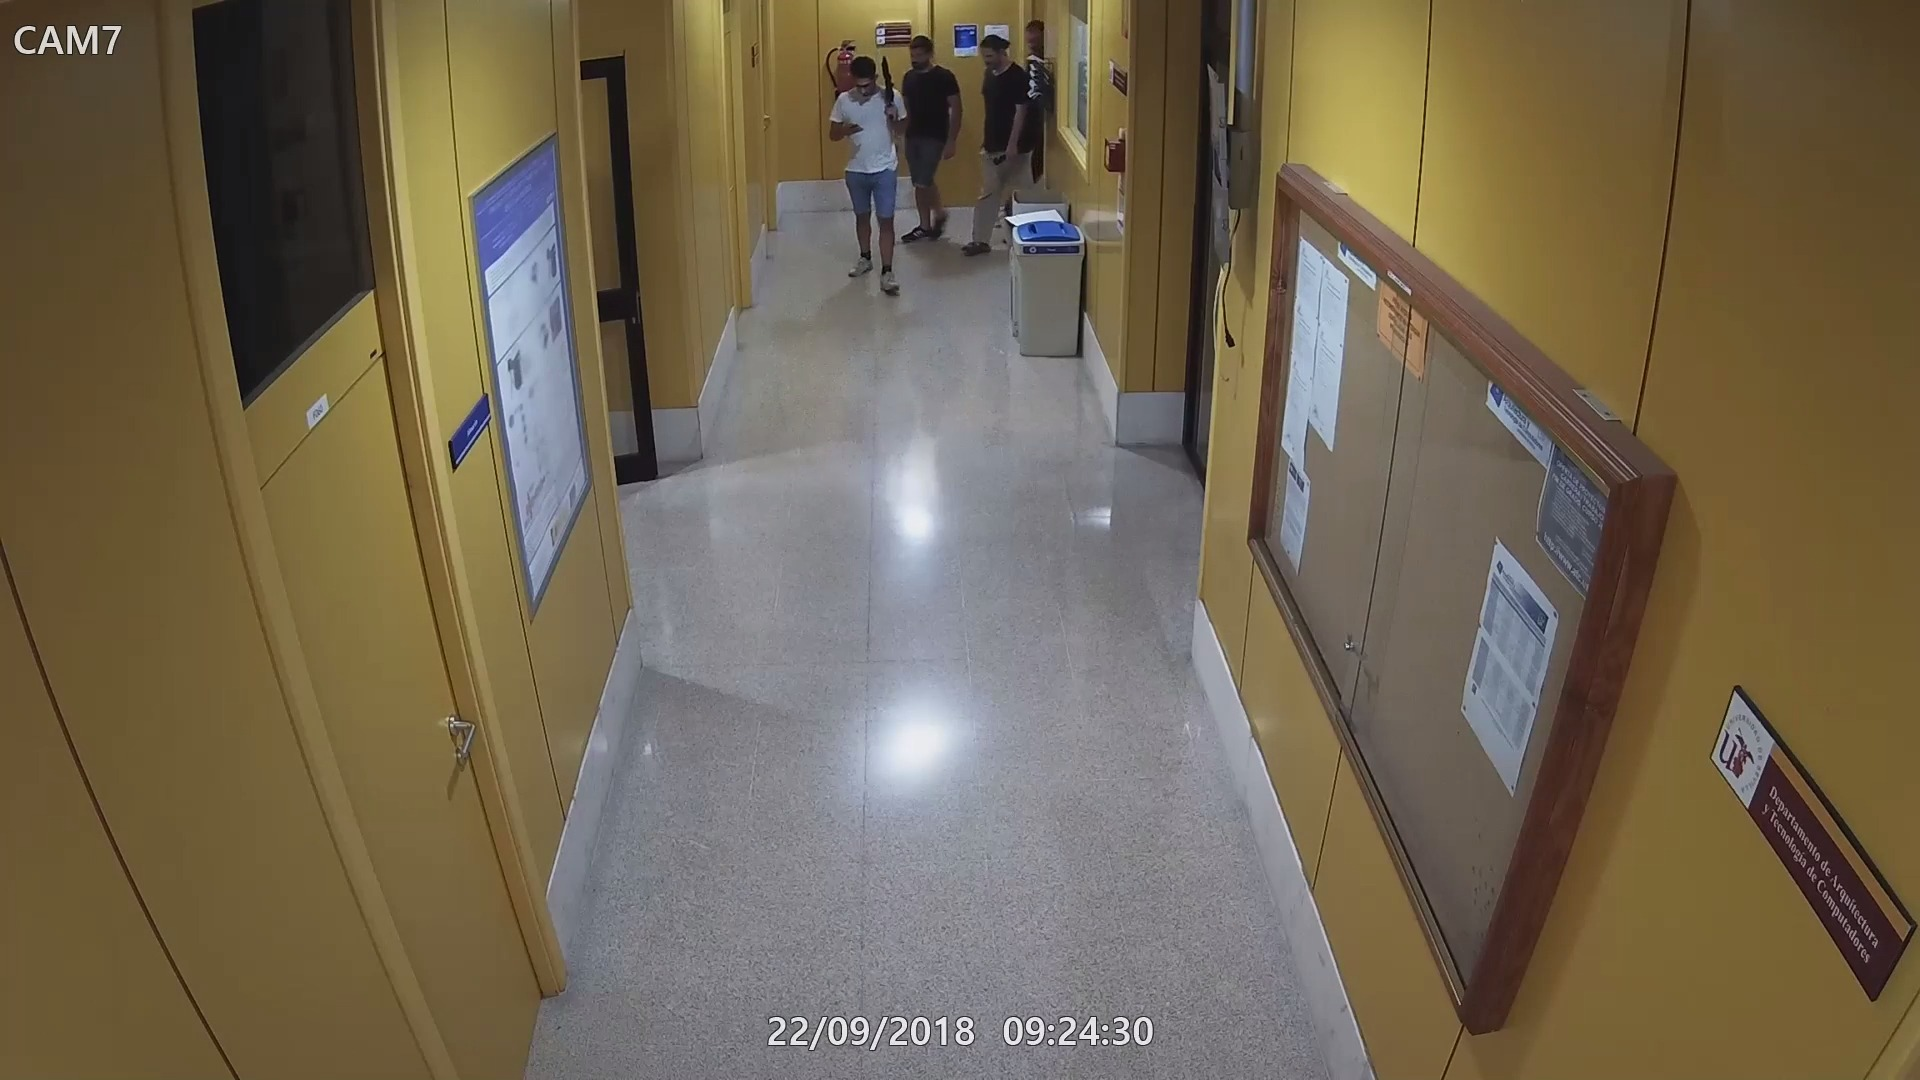rifle: (876, 54, 902, 135)
